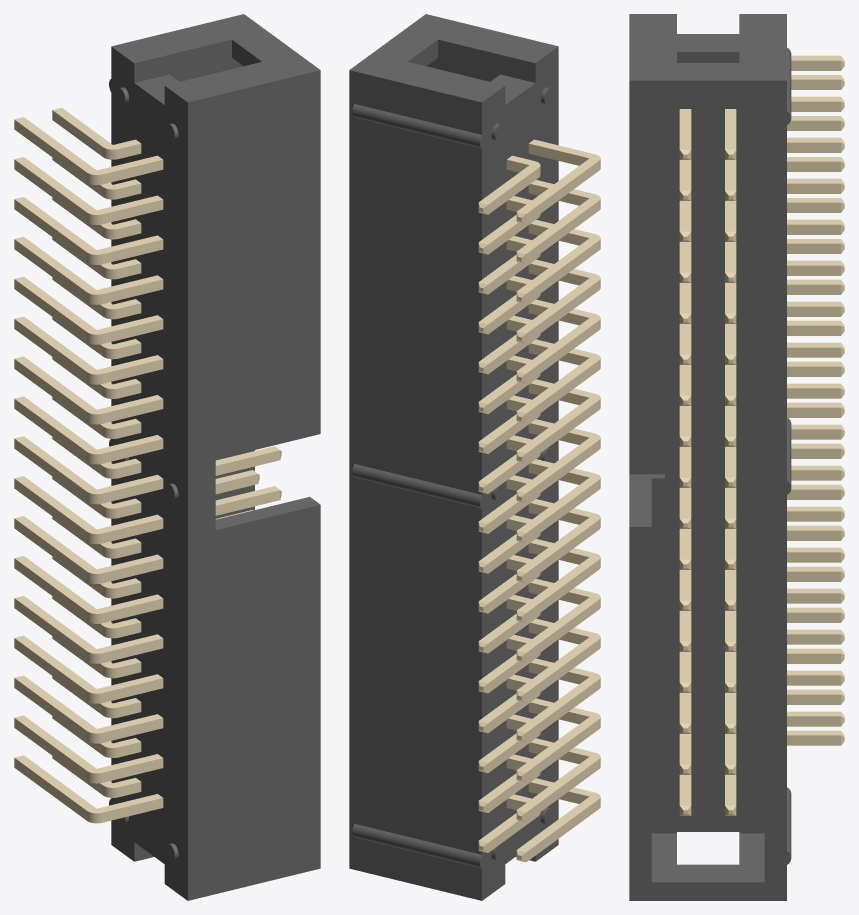
The model's file is IDC-Header_2x17_P2.54mm_Horizontal.glb.
The picture shows the model from 3 angles, left to right: view 1: azimuth 30°, elevation 25°; view 2: azimuth 150°, elevation 25°; view 3: azimuth 270°, elevation 25°; orthographic projection. The views are drawn at different scales.
Parts seen in each view (by area): view 1: Shape_IndexedFaceSet, Shape_IndexedFaceSet.007, Shape_IndexedFaceSet.001, Shape_IndexedFaceSet.011, Shape_IndexedFaceSet.161, Shape_IndexedFaceSet.178, Shape_IndexedFaceSet.014, Shape_IndexedFaceSet.162, Shape_IndexedFaceSet.179, Shape_IndexedFaceSet.229, Shape_IndexedFaceSet.076, Shape_IndexedFaceSet.263 (+47 smaller); view 2: Shape_IndexedFaceSet.008, Shape_IndexedFaceSet.007, Shape_IndexedFaceSet.001, Shape_IndexedFaceSet.009, Shape_IndexedFaceSet.025, Shape_IndexedFaceSet.023, Shape_IndexedFaceSet.024, Shape_IndexedFaceSet.297, Shape_IndexedFaceSet.212, Shape_IndexedFaceSet.246, Shape_IndexedFaceSet.059, Shape_IndexedFaceSet.093 (+34 smaller); view 3: Shape_IndexedFaceSet.017, Shape_IndexedFaceSet.002, Shape_IndexedFaceSet.001, Shape_IndexedFaceSet.013, Shape_IndexedFaceSet.004, Shape_IndexedFaceSet.005, Shape_IndexedFaceSet.026, Shape_IndexedFaceSet.297, Shape_IndexedFaceSet.586, Shape_IndexedFaceSet.042, Shape_IndexedFaceSet.059, Shape_IndexedFaceSet.076 (+63 smaller).
Part boxes in pixels (bbox=[...]): Shape_IndexedFaceSet: bbox=[188, 70, 320, 900]; Shape_IndexedFaceSet.007: bbox=[109, 47, 187, 900]; Shape_IndexedFaceSet.001: bbox=[111, 14, 320, 102]; Shape_IndexedFaceSet.011: bbox=[134, 39, 231, 82]; Shape_IndexedFaceSet.161: bbox=[14, 476, 279, 533]; Shape_IndexedFaceSet.178: bbox=[14, 436, 279, 494]; Shape_IndexedFaceSet.014: bbox=[169, 58, 254, 518]; Shape_IndexedFaceSet.162: bbox=[102, 490, 280, 543]; Shape_IndexedFaceSet.179: bbox=[102, 450, 280, 503]; Shape_IndexedFaceSet.229: bbox=[14, 316, 162, 374]; Shape_IndexedFaceSet.076: bbox=[14, 675, 162, 733]; Shape_IndexedFaceSet.263: bbox=[14, 236, 162, 294]; Shape_IndexedFaceSet.008: bbox=[349, 70, 481, 900]; Shape_IndexedFaceSet.007: bbox=[480, 47, 558, 900]; Shape_IndexedFaceSet.001: bbox=[349, 14, 558, 102]; Shape_IndexedFaceSet.009: bbox=[438, 39, 535, 82]; Shape_IndexedFaceSet.025: bbox=[352, 104, 481, 148]; Shape_IndexedFaceSet.023: bbox=[352, 824, 481, 868]; Shape_IndexedFaceSet.024: bbox=[352, 464, 481, 508]; Shape_IndexedFaceSet.297: bbox=[517, 139, 600, 213]; Shape_IndexedFaceSet.212: bbox=[517, 379, 600, 453]; Shape_IndexedFaceSet.246: bbox=[517, 299, 600, 373]; Shape_IndexedFaceSet.059: bbox=[517, 738, 600, 812]; Shape_IndexedFaceSet.093: bbox=[517, 658, 600, 732]; Shape_IndexedFaceSet.017: bbox=[651, 52, 764, 833]; Shape_IndexedFaceSet.002: bbox=[629, 80, 786, 900]; Shape_IndexedFaceSet.001: bbox=[629, 14, 786, 80]; Shape_IndexedFaceSet.013: bbox=[651, 833, 764, 882]; Shape_IndexedFaceSet.004: bbox=[629, 405, 664, 474]; Shape_IndexedFaceSet.005: bbox=[629, 474, 664, 526]; Shape_IndexedFaceSet.026: bbox=[677, 34, 739, 51]; Shape_IndexedFaceSet.297: bbox=[679, 55, 840, 149]; Shape_IndexedFaceSet.586: bbox=[725, 75, 840, 149]; Shape_IndexedFaceSet.042: bbox=[679, 711, 840, 805]; Shape_IndexedFaceSet.059: bbox=[679, 670, 840, 764]; Shape_IndexedFaceSet.076: bbox=[679, 629, 840, 723].
Bounding box in the file's own units: 5.34 × 20.02 × 4.76.
